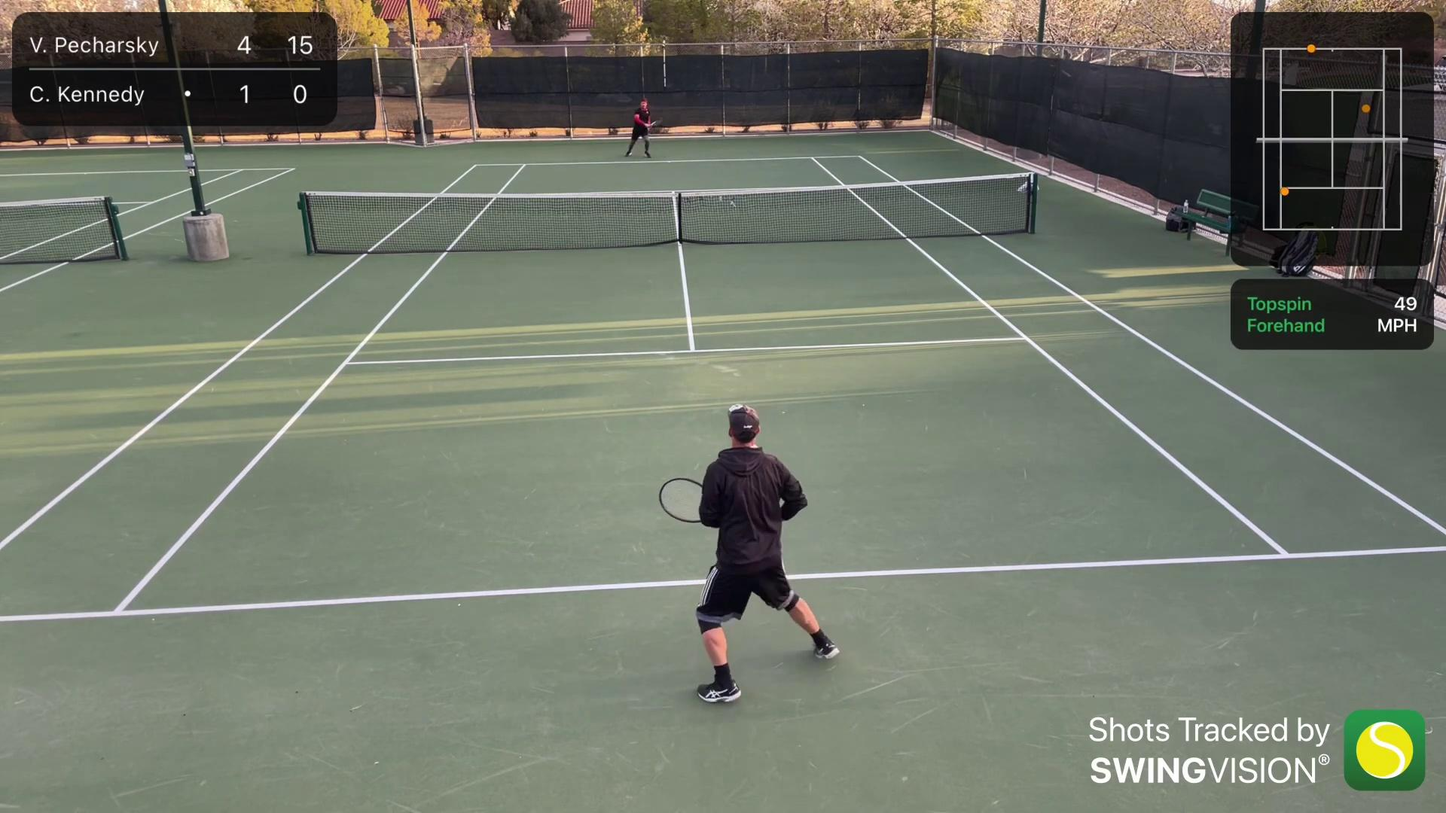ball: (587, 131, 594, 137)
